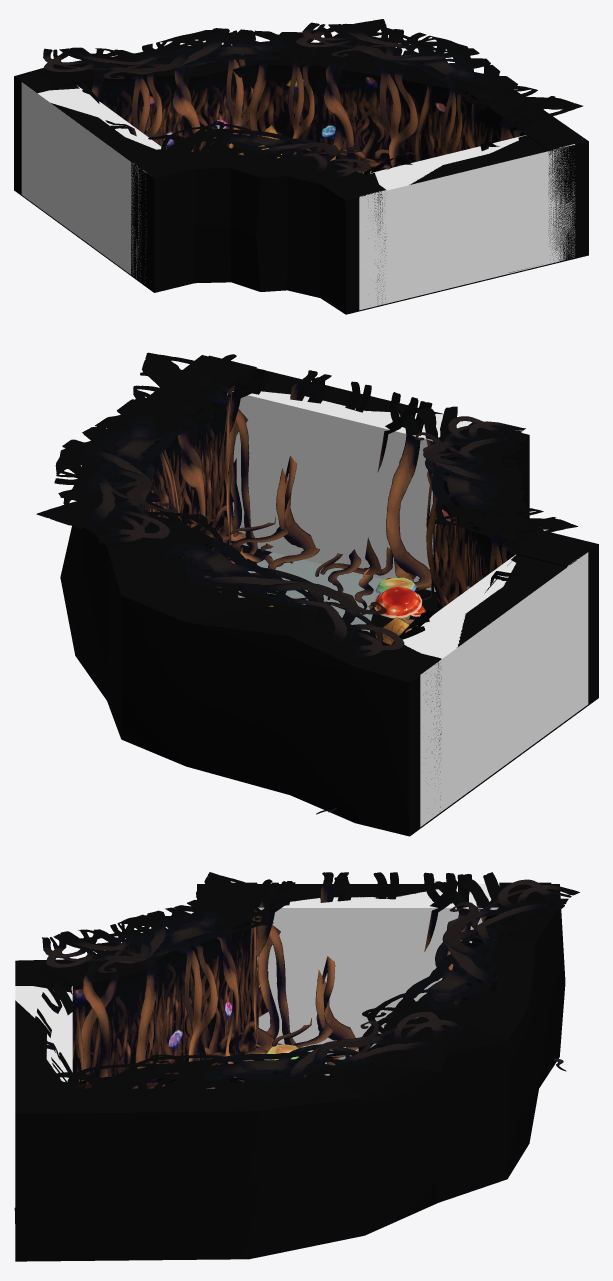
The model's file is Dungeon_021_RoadL_002.fbx.
3 views of the same model, one above another, from view 1: azimuth 30°, elevation 25°; view 2: azimuth 150°, elevation 25°; view 3: azimuth 270°, elevation 25° (orthographic). The views are drawn at different scales.
Parts seen in each view (by area): view 1: Dan1, DoorWay_NavMask (1) (×2), Dungeon_021_Tsuta_002, Dungeon_021_Tsuta_001, un_021_Door_002 (×2), DoorWay_NavMask (×2); view 2: Dan1, Dungeon_021_Tsuta_002, DoorWay_NavMask (×2), DoorWay_NavMask (1), un_021_Door_002_Object1 (×2), un_021_Door_002 (×2), Dungeon_021_Tsuta_001, Quad_Nav_SP (2), Kinoko01, Dan1_shadow; view 3: Dan1, Dungeon_021_Tsuta_002, DoorWay_NavMask (×2), un_021_Door_002_Object1 (×2), Dungeon_021_Tsuta_001, un_021_Door_002 (×2), DoorWay_NavMask (1).
Boxes of the visible parts, box(x1,y1,x2,y2) form: Dan1: box(14, 41, 588, 314); DoorWay_NavMask (1) (×2): box(21, 82, 575, 310); Dungeon_021_Tsuta_002: box(43, 19, 582, 180); Dungeon_021_Tsuta_001: box(91, 30, 547, 173); un_021_Door_002 (×2): box(17, 72, 582, 304); DoorWay_NavMask (×2): box(38, 85, 526, 187); Dan1: box(60, 355, 598, 836); Dungeon_021_Tsuta_002: box(36, 352, 577, 661); DoorWay_NavMask (×2): box(227, 391, 515, 658); DoorWay_NavMask (1): box(410, 552, 588, 826); un_021_Door_002_Object1 (×2): box(219, 368, 522, 814); un_021_Door_002 (×2): box(189, 355, 594, 812); Dungeon_021_Tsuta_001: box(113, 363, 539, 637); Quad_Nav_SP (2): box(238, 552, 384, 617); Kinoko01: box(374, 586, 422, 621); Dan1_shadow: box(206, 545, 437, 635); Dan1: box(15, 884, 565, 1261); Dungeon_021_Tsuta_002: box(36, 872, 579, 1106); DoorWay_NavMask (×2): box(46, 884, 499, 1081); un_021_Door_002_Object1 (×2): box(27, 872, 566, 1083); Dungeon_021_Tsuta_001: box(76, 883, 527, 1088); un_021_Door_002 (×2): box(15, 882, 551, 1109); DoorWay_NavMask (1): box(15, 986, 55, 1070).
Size of what is drawn, in the model's own units: 7.27 by 2.36 by 7.25.
